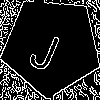J: (26, 21, 67, 74)
